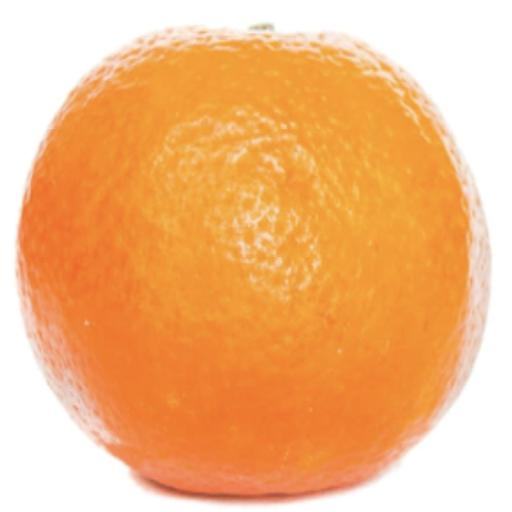orange: (18, 30, 489, 494)
